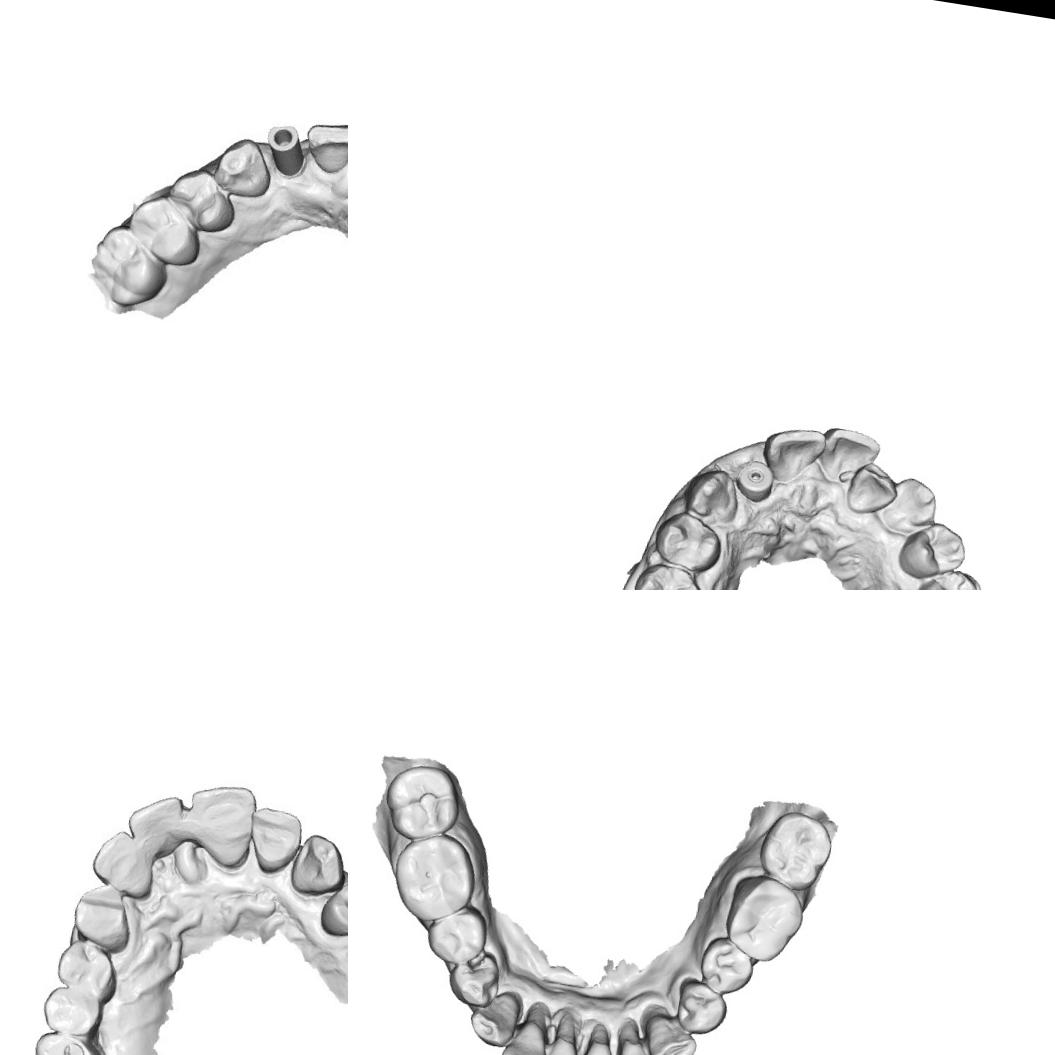canine: (68, 880, 137, 956), (213, 138, 281, 202), (880, 472, 942, 540), (287, 831, 348, 900), (681, 463, 744, 529), (466, 988, 520, 1052), (642, 1017, 700, 1055)
implant: (260, 118, 313, 186), (734, 456, 778, 503)
incisor: (180, 778, 260, 871), (88, 826, 160, 901), (122, 790, 188, 862), (760, 419, 828, 487), (242, 805, 305, 878), (817, 424, 884, 487), (842, 458, 902, 520), (302, 119, 348, 176), (498, 1016, 553, 1055), (532, 1032, 586, 1055), (573, 1034, 627, 1055), (611, 1035, 666, 1055)
molar: (386, 828, 482, 929), (718, 870, 809, 968), (378, 758, 468, 845), (754, 807, 838, 892), (84, 224, 164, 312), (127, 195, 202, 266), (26, 1029, 112, 1055)
premolar: (651, 506, 727, 576), (53, 936, 123, 1006), (422, 902, 492, 971), (899, 518, 972, 584), (692, 932, 760, 998), (164, 169, 234, 233), (671, 974, 734, 1040), (444, 948, 506, 1011), (39, 984, 106, 1040), (627, 558, 709, 590), (316, 875, 348, 943), (906, 563, 983, 590)
